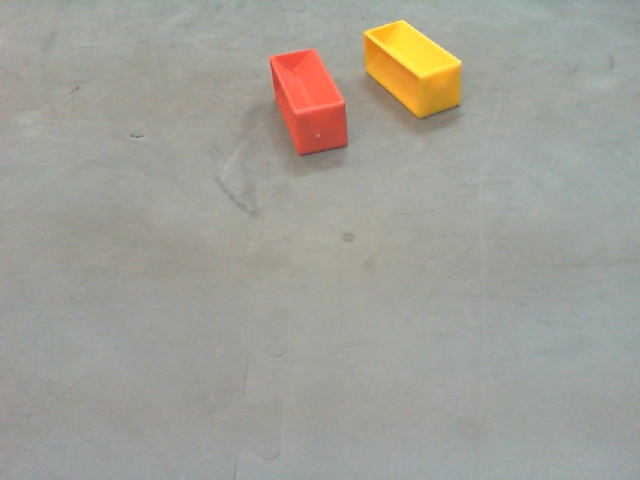RedSample: (269, 49, 356, 157)
YellowSample: (360, 17, 462, 121)
